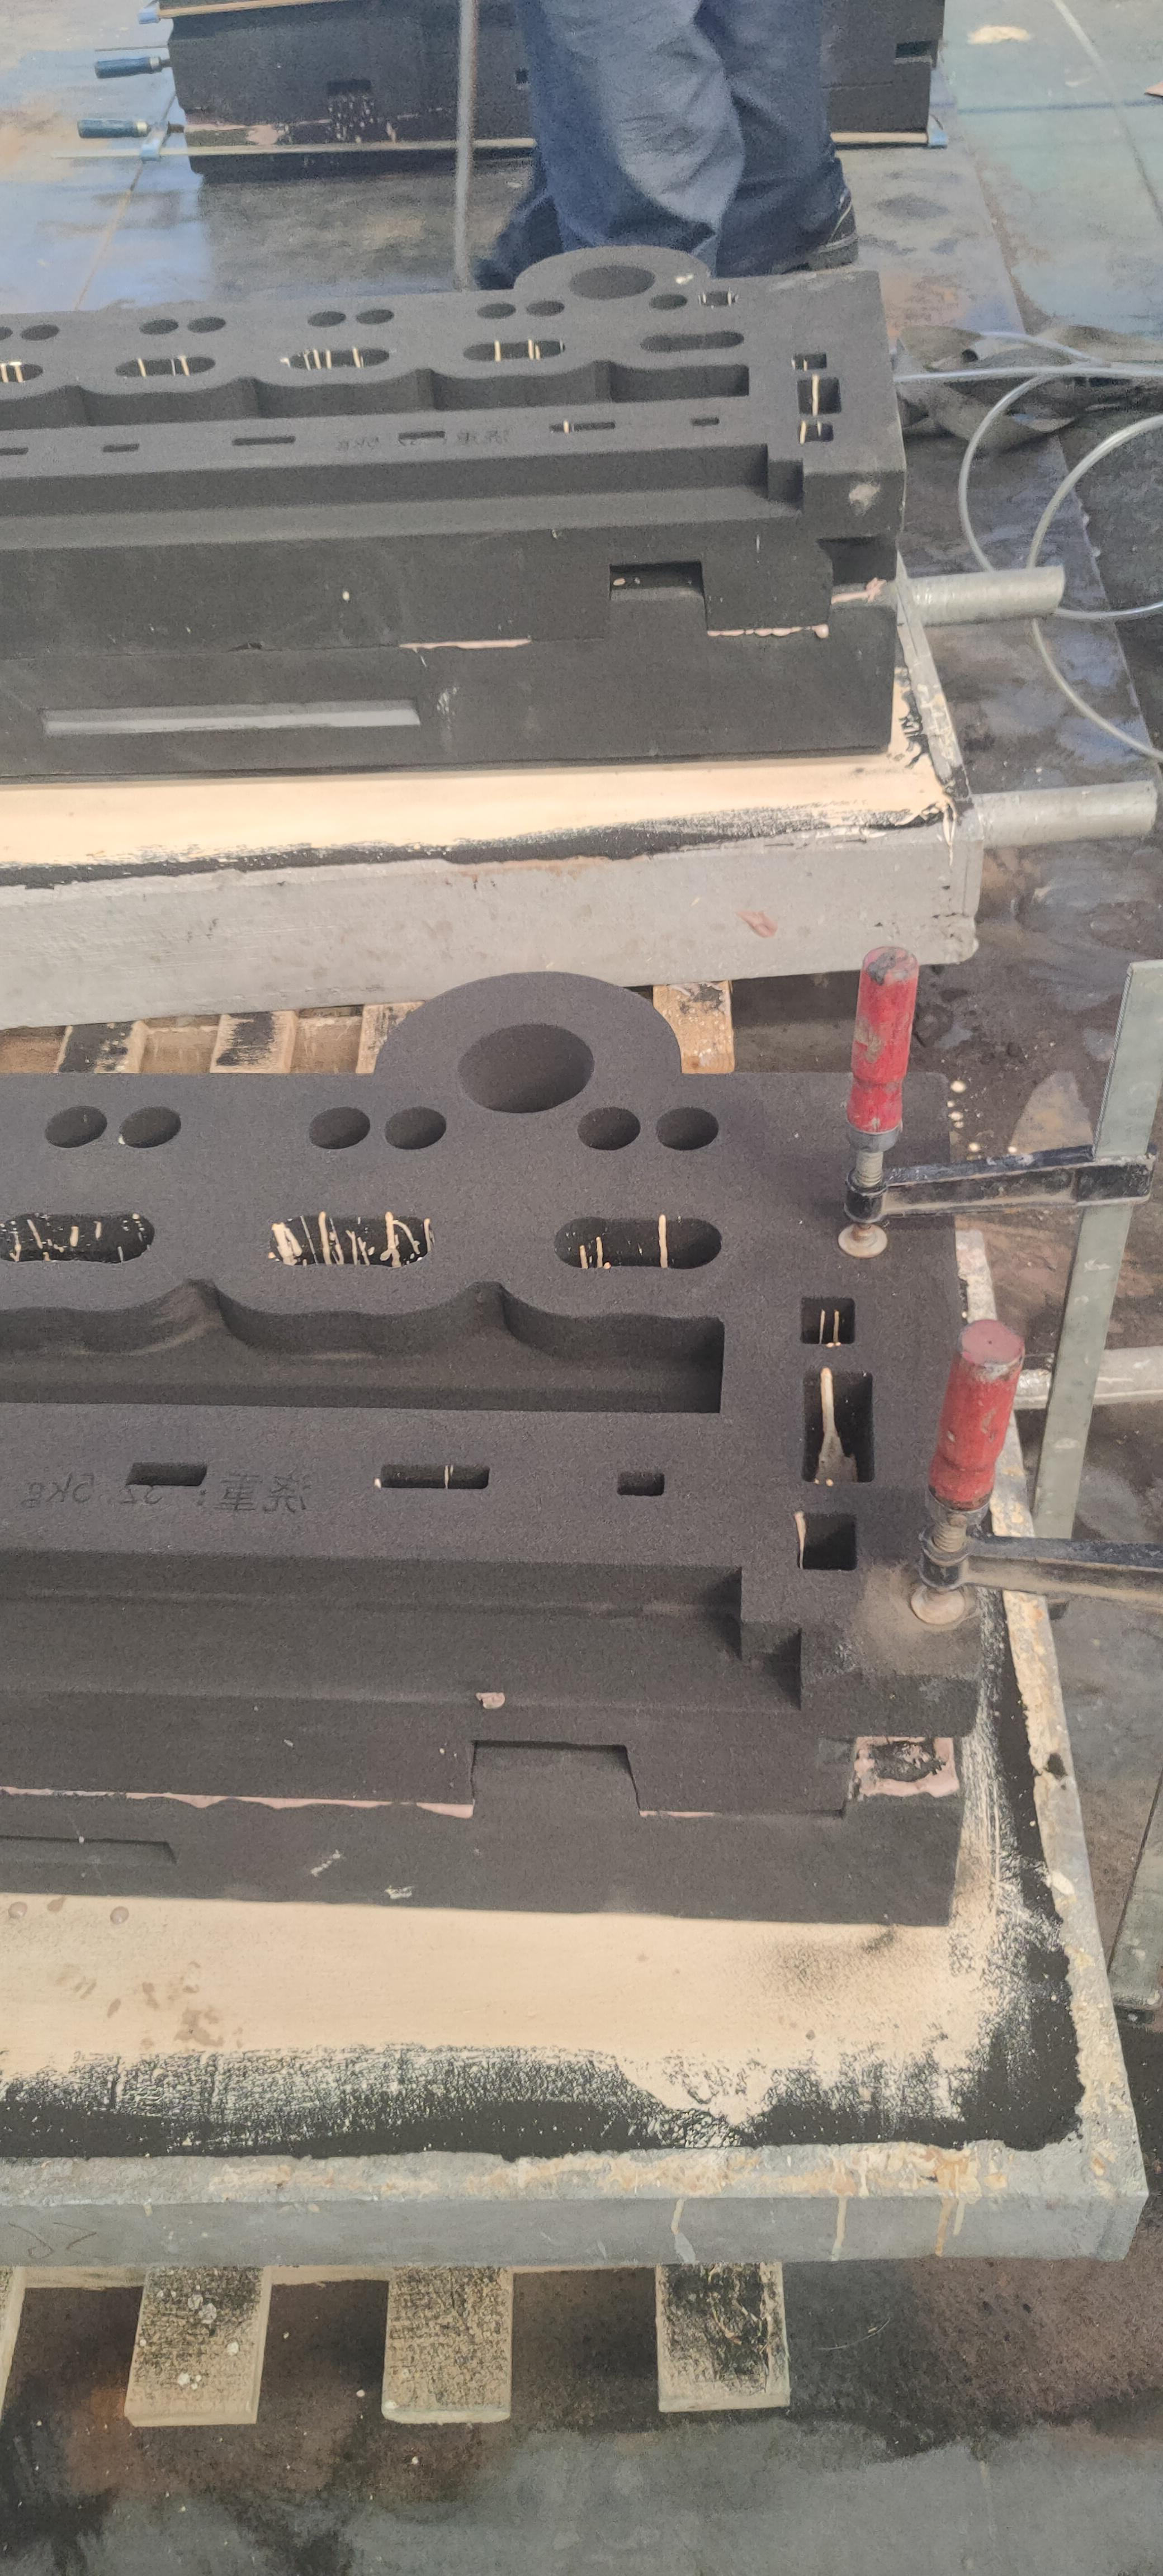pouring hole: (455, 1023, 595, 1112), (568, 264, 655, 299)
